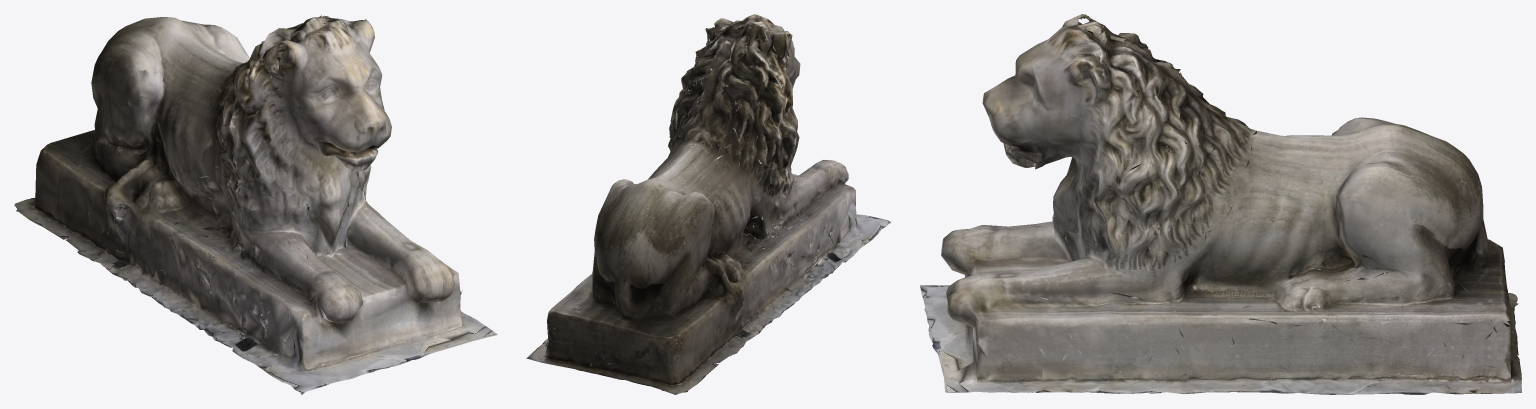
3 renders of one model, left to right at view 1: azimuth 30°, elevation 25°; view 2: azimuth 150°, elevation 25°; view 3: azimuth 270°, elevation 25°, orthographic. The views are drawn at different scales.
Parts seen in each view (by area): view 1: Object_2, Object_3, Object_4; view 2: Object_3, Object_2, Object_4; view 3: Object_2, Object_3, Object_4.
Boxes of the visible parts, <box> form: Object_2: <box>14,18,497,394</box>; Object_3: <box>14,17,371,319</box>; Object_4: <box>198,14,404,357</box>; Object_3: <box>534,72,804,393</box>; Object_2: <box>526,14,890,394</box>; Object_4: <box>677,20,848,283</box>; Object_2: <box>920,14,1521,394</box>; Object_3: <box>1072,89,1521,393</box>; Object_4: <box>1007,14,1198,390</box>.
Bounding box in the file's own units: 2.85 × 3.78 × 6.31.
1 material, 1 textured.
